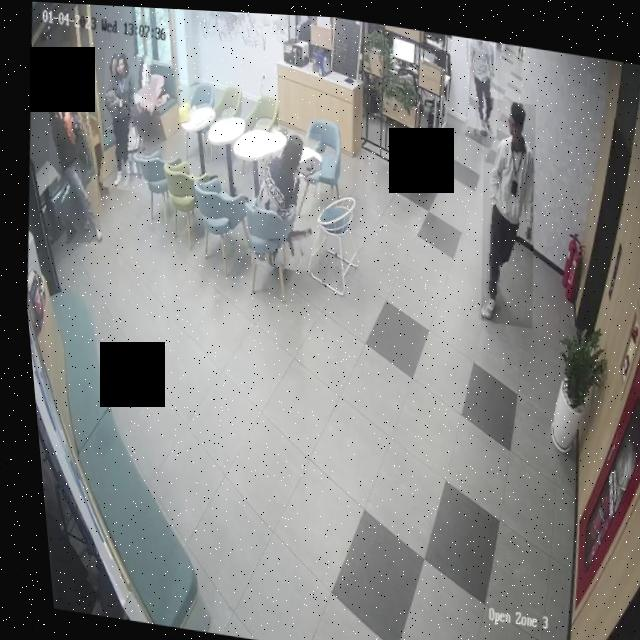person: (460, 91, 550, 324), (237, 120, 328, 271), (32, 84, 108, 247), (90, 47, 158, 192), (458, 32, 505, 132)
